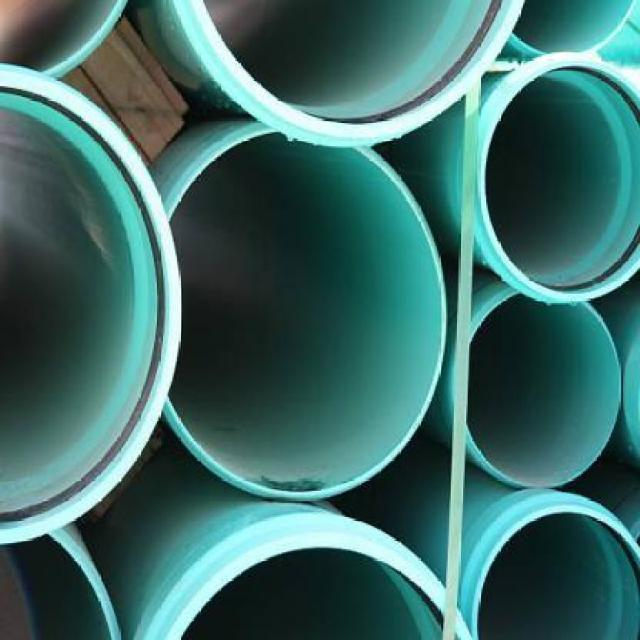pipe: (166, 129, 446, 500), (1, 70, 183, 544), (480, 54, 640, 302), (154, 527, 474, 640), (468, 294, 619, 488), (473, 504, 639, 640), (0, 523, 125, 640), (0, 0, 129, 80)
